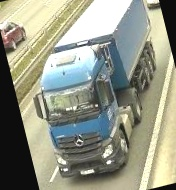car: (0, 16, 30, 54), (141, 0, 160, 9)
